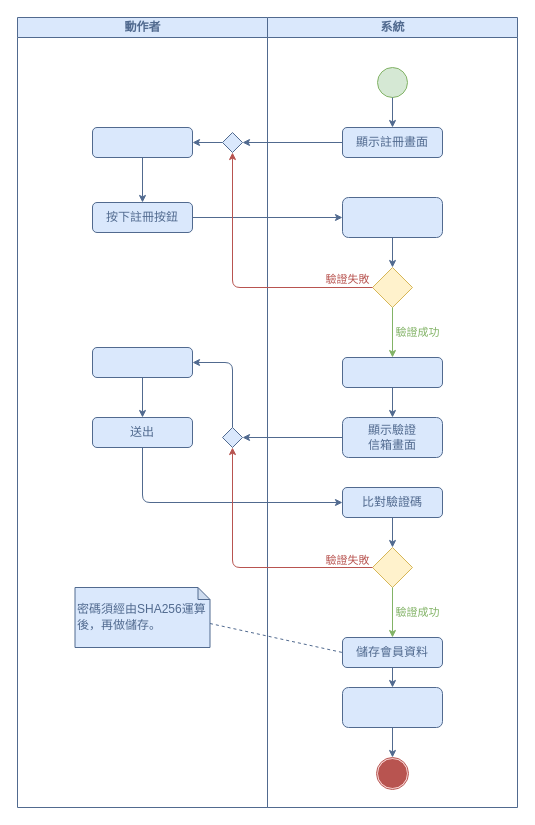
Some shapes in this 535 by 825 pixel diagram are drawn without their labels. Each missing label, with the centre of its shape:
"填寫基本資料" belongs at (x=142, y=142).
"發送驗證信" belongs at (x=392, y=372).
"自動登入 顯示首頁" belongs at (x=392, y=707).
"輸入驗證碼" belongs at (x=142, y=362).
"驗證資料 是否正確/重複" belongs at (x=392, y=217).
